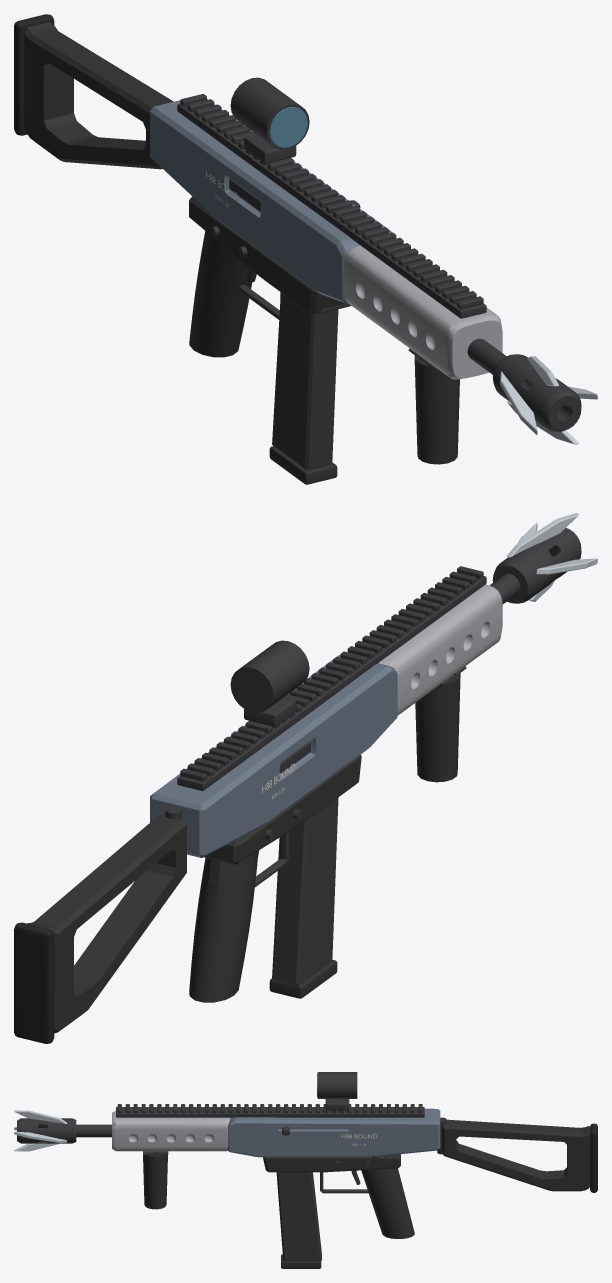
Rendered from boundgun.glb.
3 views of the same model, one above another, from view 1: azimuth 30°, elevation 25°; view 2: azimuth 150°, elevation 25°; view 3: azimuth 270°, elevation 25° (orthographic). The views are drawn at different scales.
Parts seen in each view (by area): view 1: Body; view 2: Body; view 3: Body.
Part boxes in pixels (x1,y1,x2,y2): Body: (14, 14, 597, 484); Body: (14, 513, 597, 1043); Body: (14, 1072, 597, 1268).
Size of the model in its own units: 0.0579 by 0.2674 by 0.7378.
